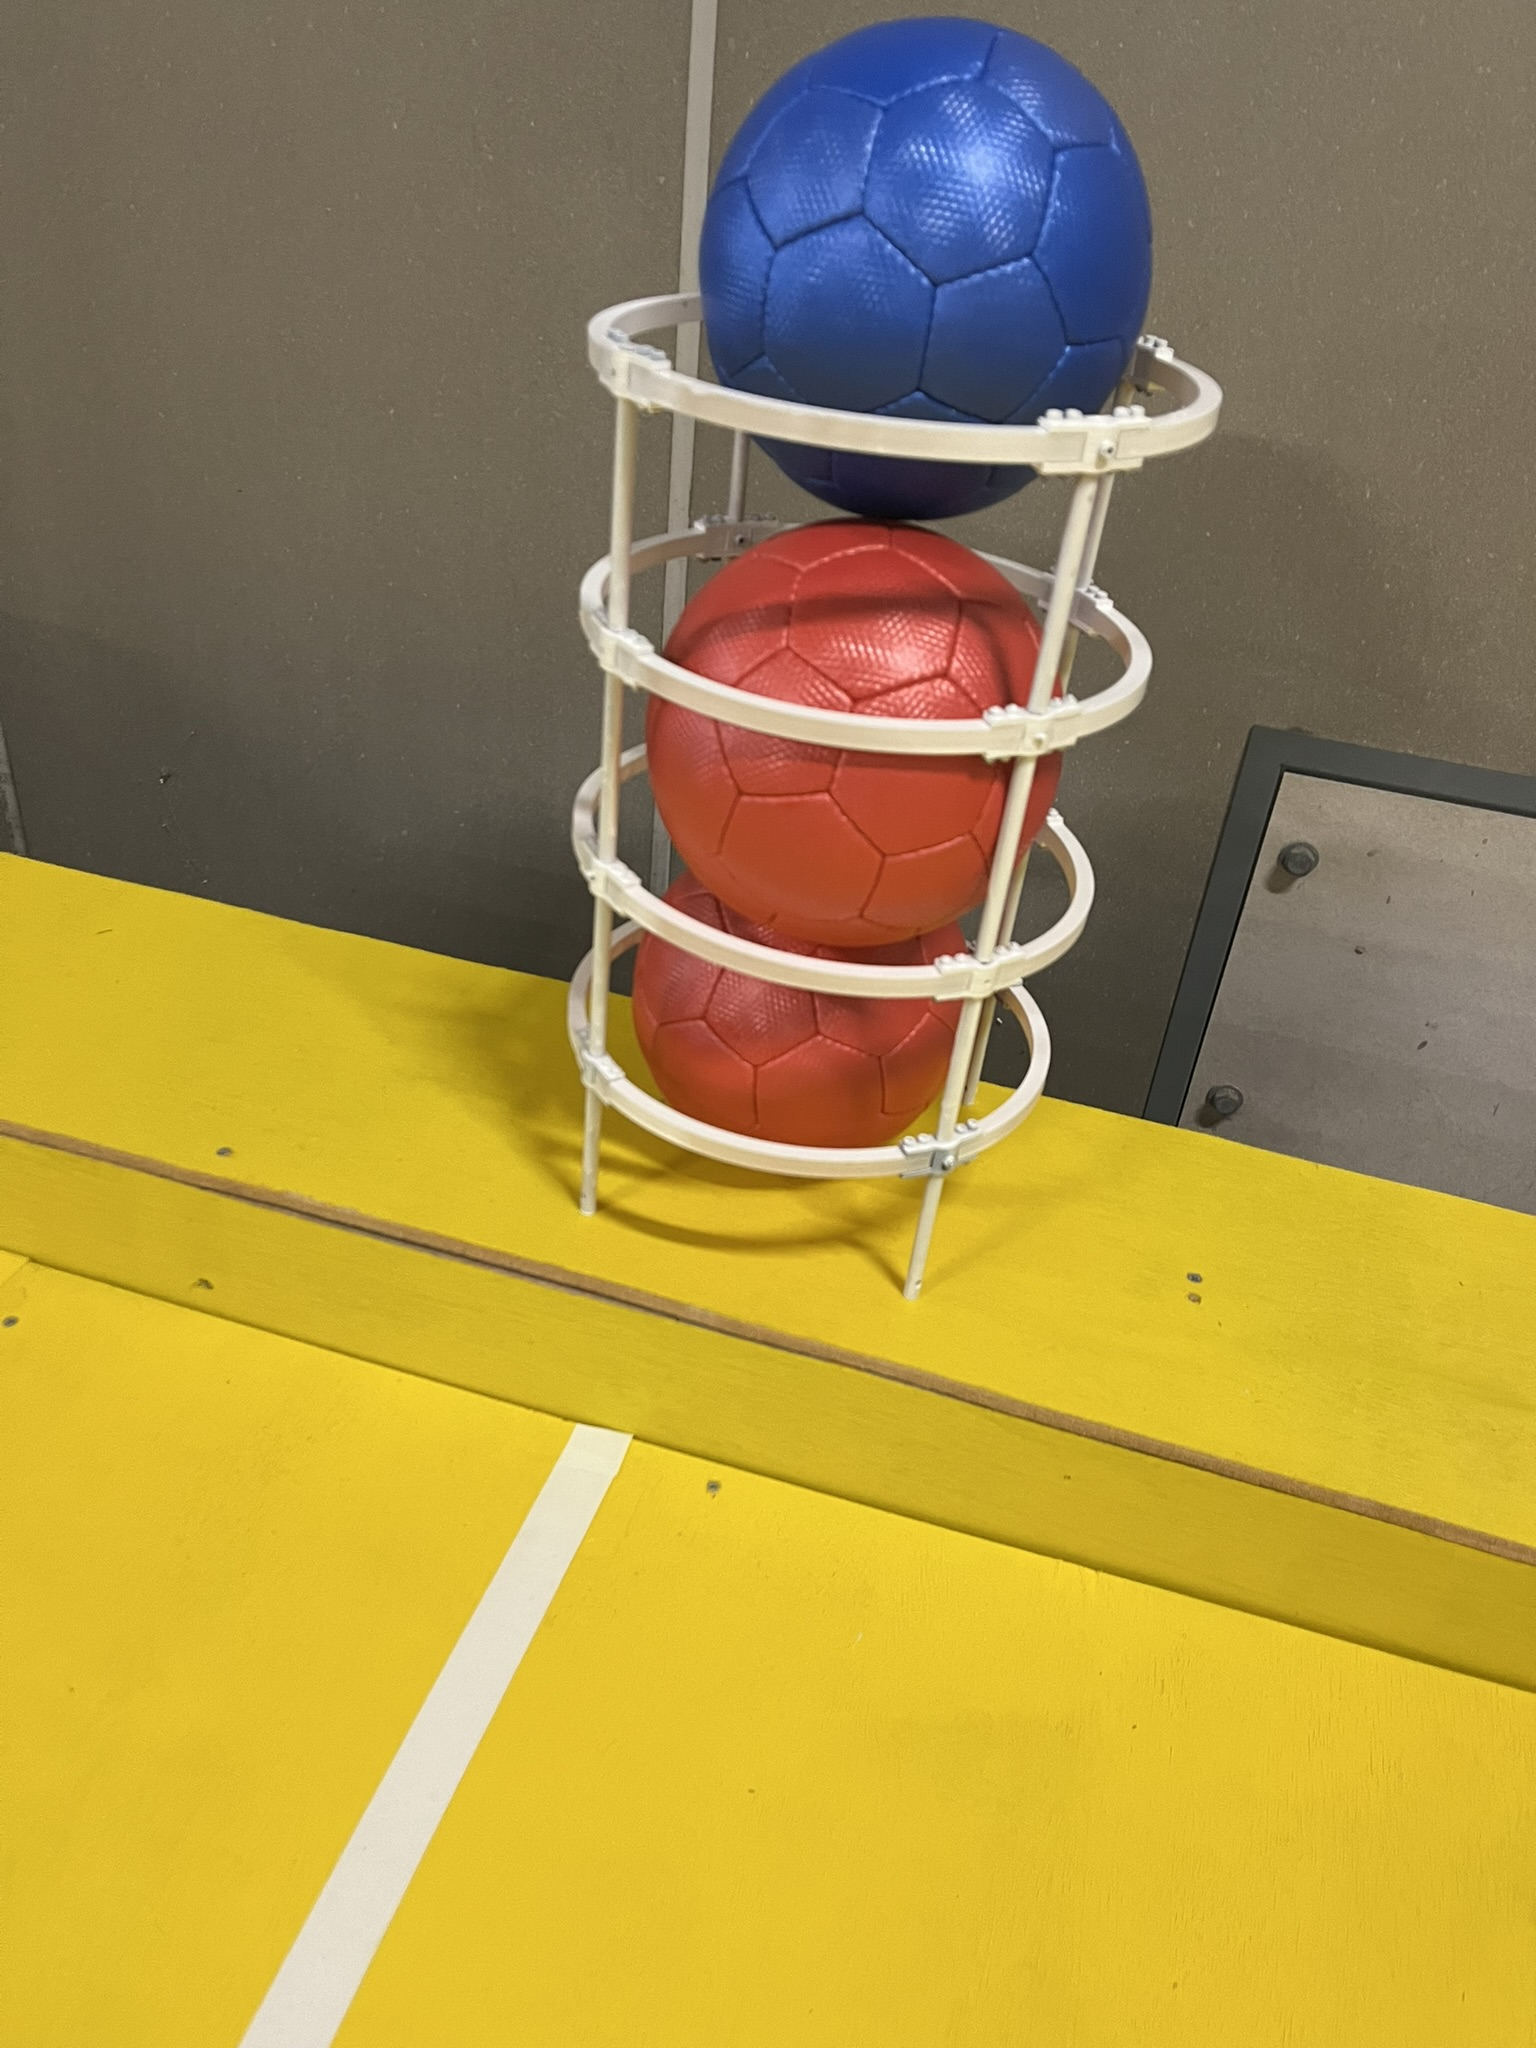blue: (674, 0, 1165, 534)
